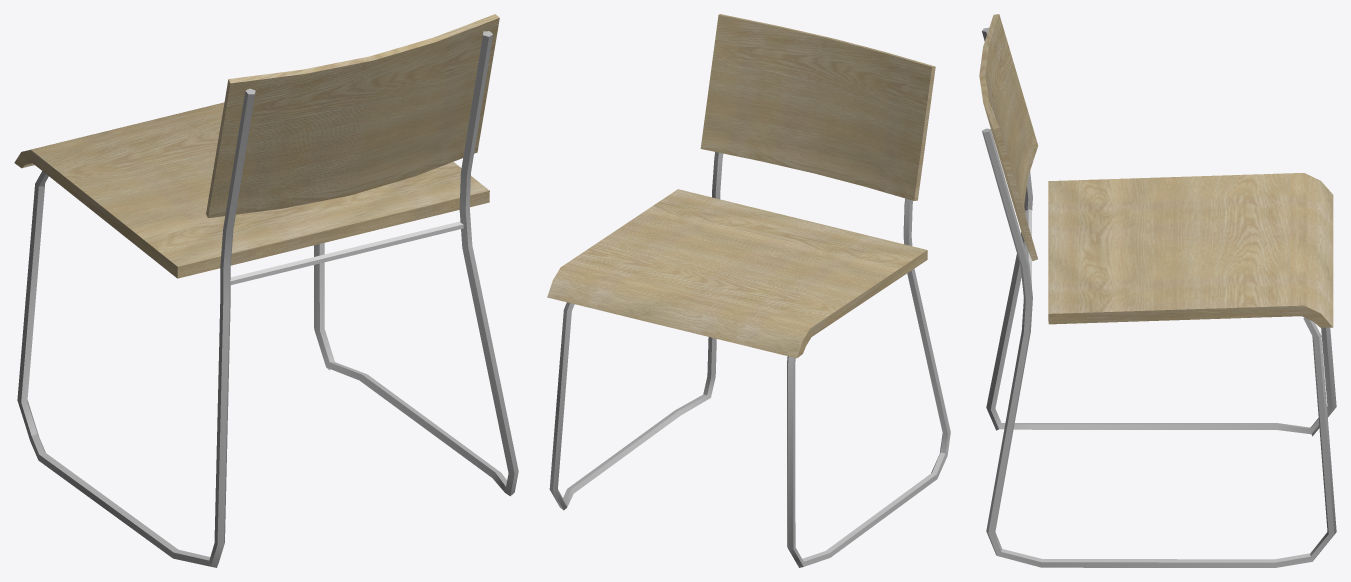
Rendered from Classroom-34.FBX.
3 renders of one model, left to right at view 1: azimuth 30°, elevation 25°; view 2: azimuth 150°, elevation 25°; view 3: azimuth 270°, elevation 25°, orthographic. The views are drawn at different scales.
Visible parts, largest first — view 1: Classroom-34; view 2: Classroom-34; view 3: Classroom-34.
Part boxes in pixels (bbox=[...]): Classroom-34: bbox=[14, 14, 518, 567]; Classroom-34: bbox=[547, 14, 950, 567]; Classroom-34: bbox=[979, 14, 1336, 567].
Size of the model in its own units: 0.4888 by 0.6959 by 0.5261.
Materials: 3 (1 with a texture image).
